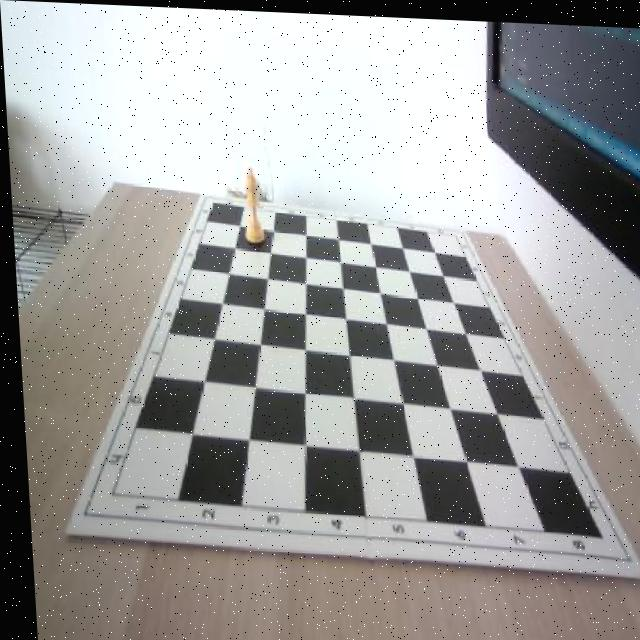black-rook: (238, 162, 263, 243)
